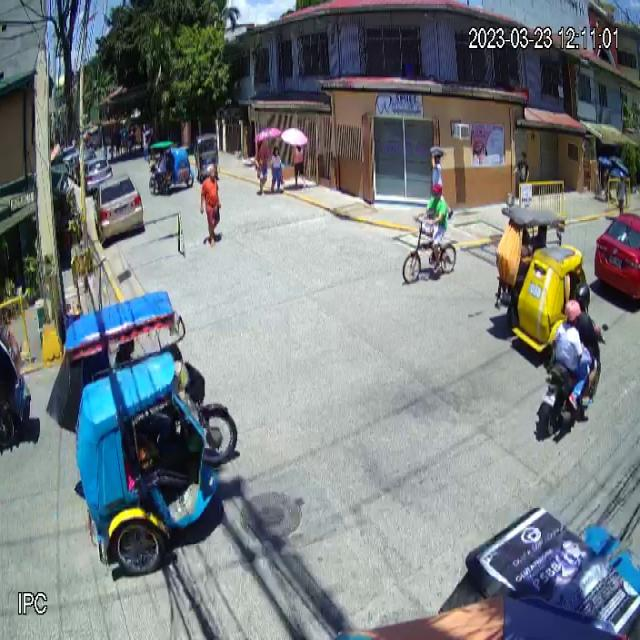Car: (93, 172, 143, 244)
Motorcycle: (538, 316, 608, 454)
Tricycle: (62, 289, 239, 574), (497, 206, 587, 354)
